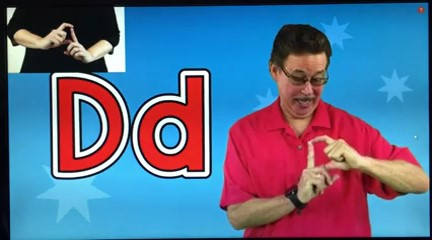D: (301, 132, 361, 204), (39, 21, 88, 64)
